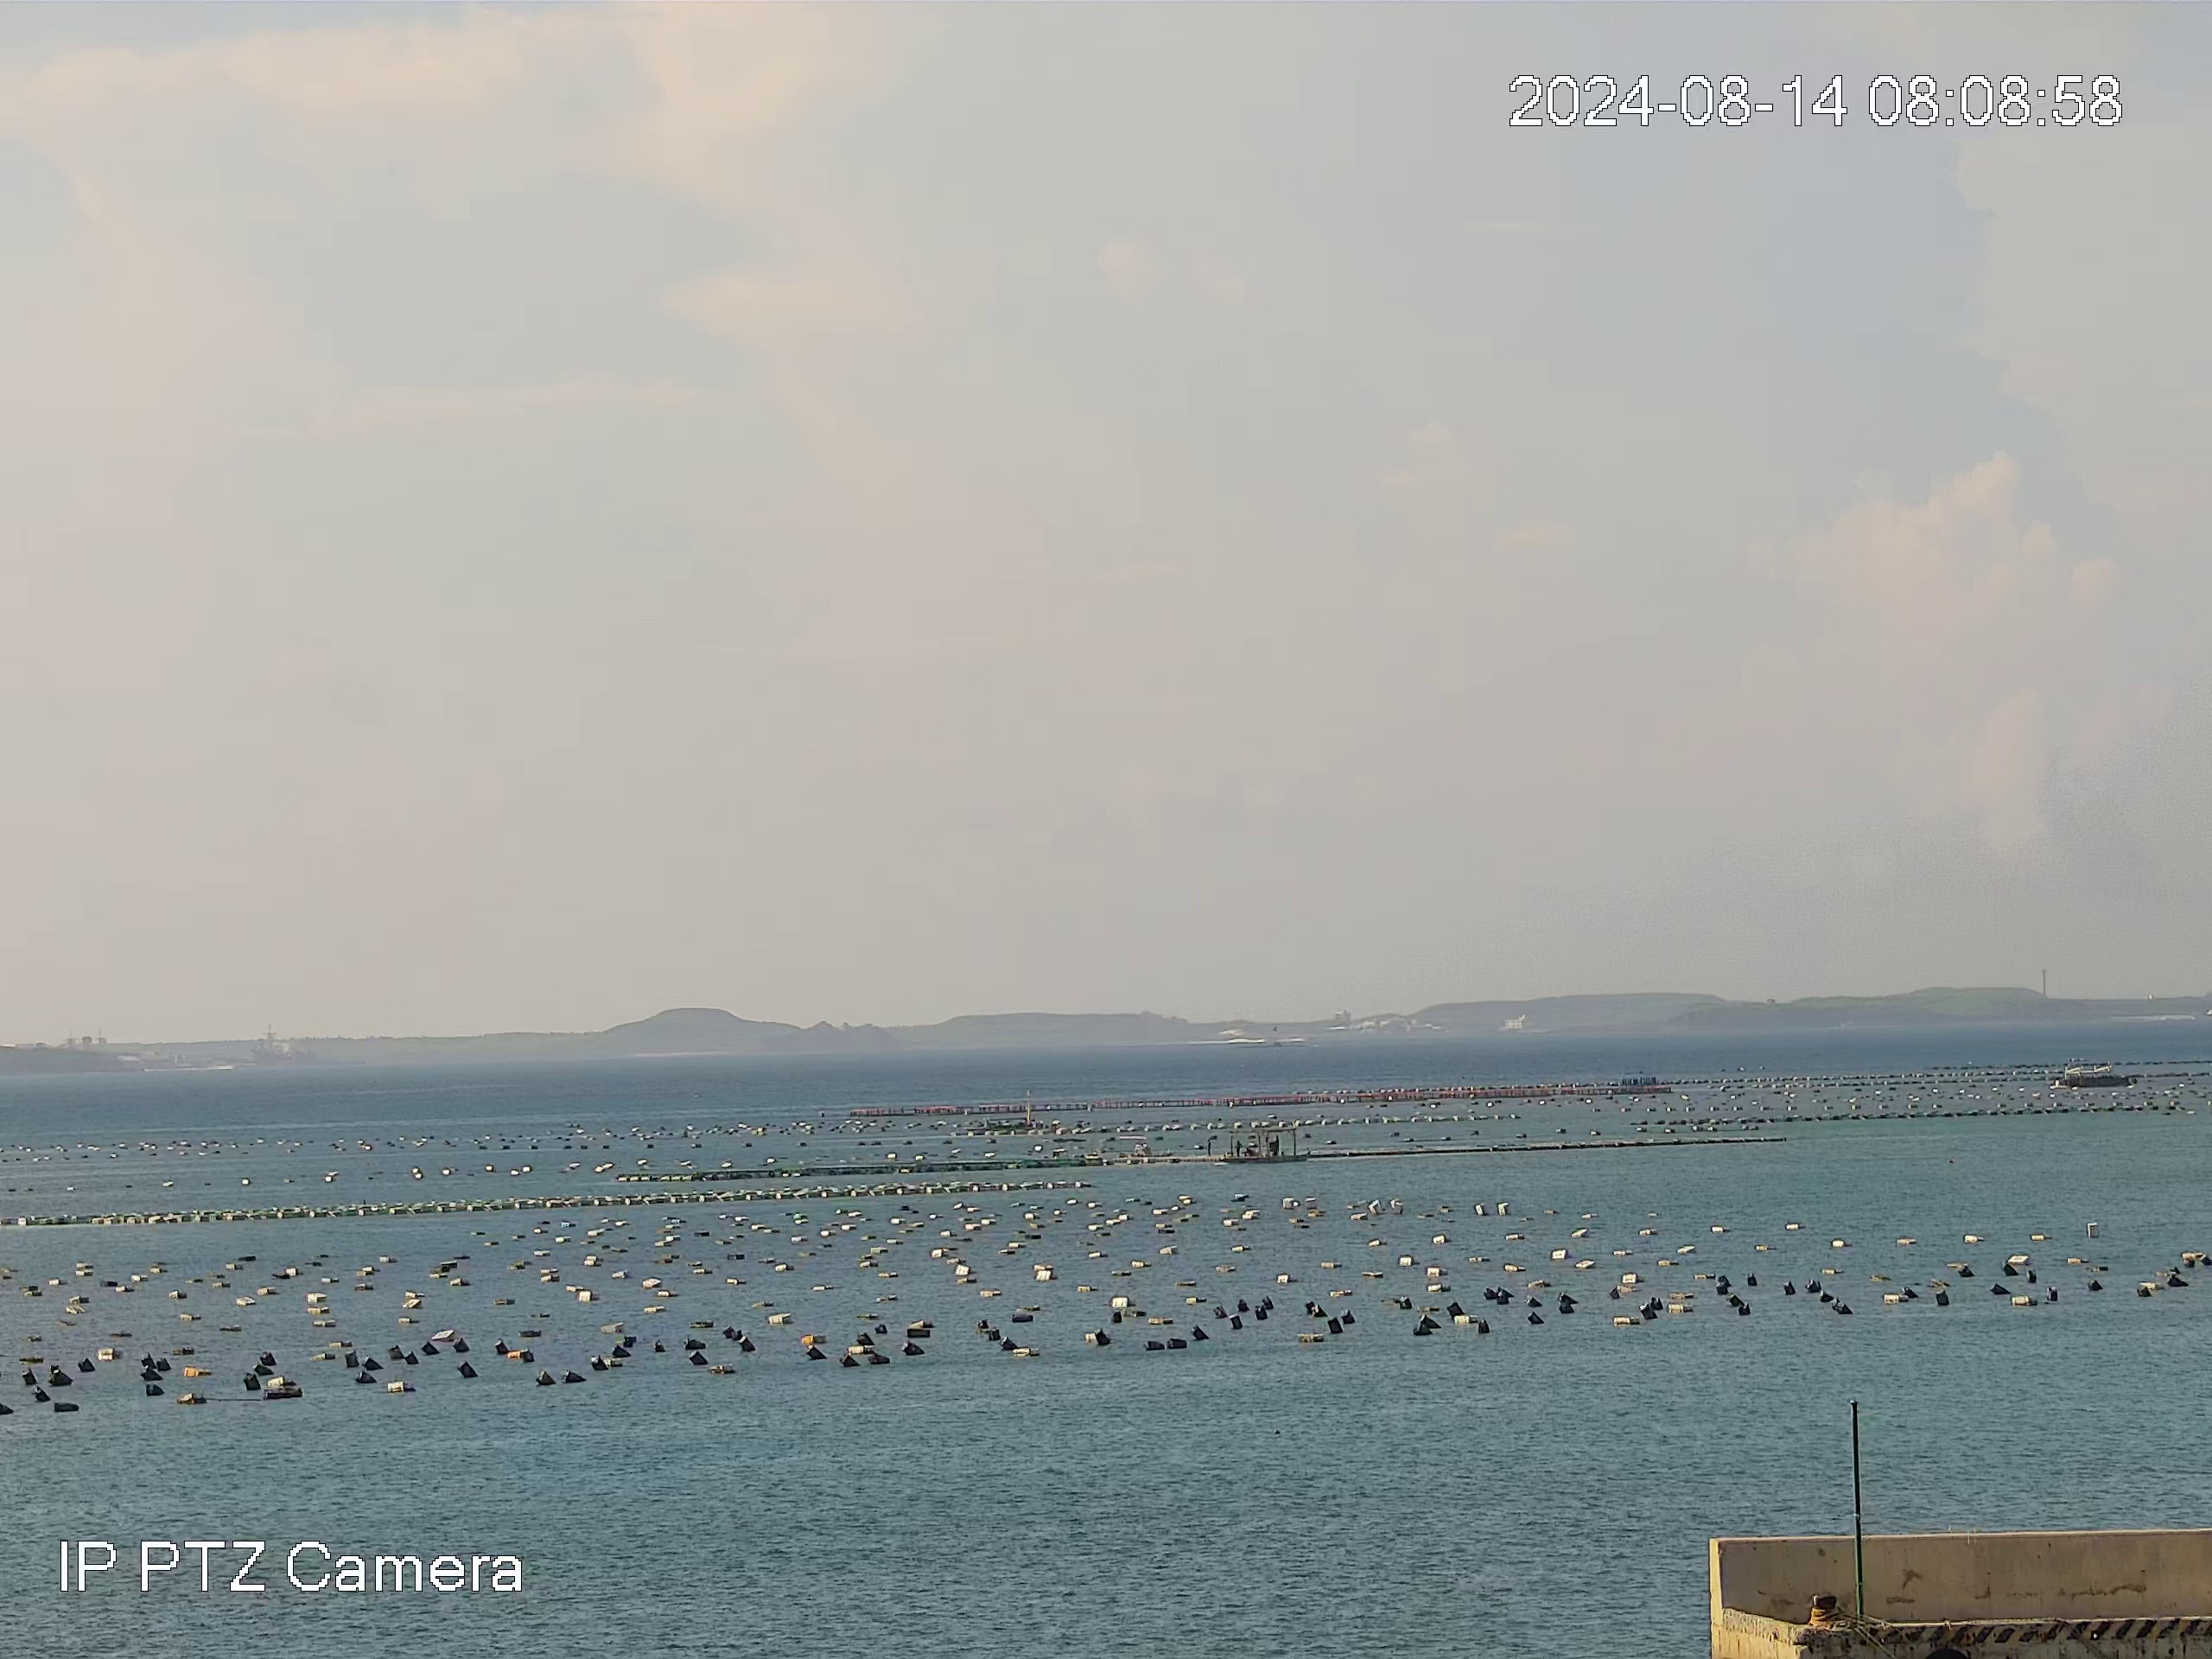boat: (1217, 1128, 1311, 1165), (2056, 1061, 2140, 1087)
